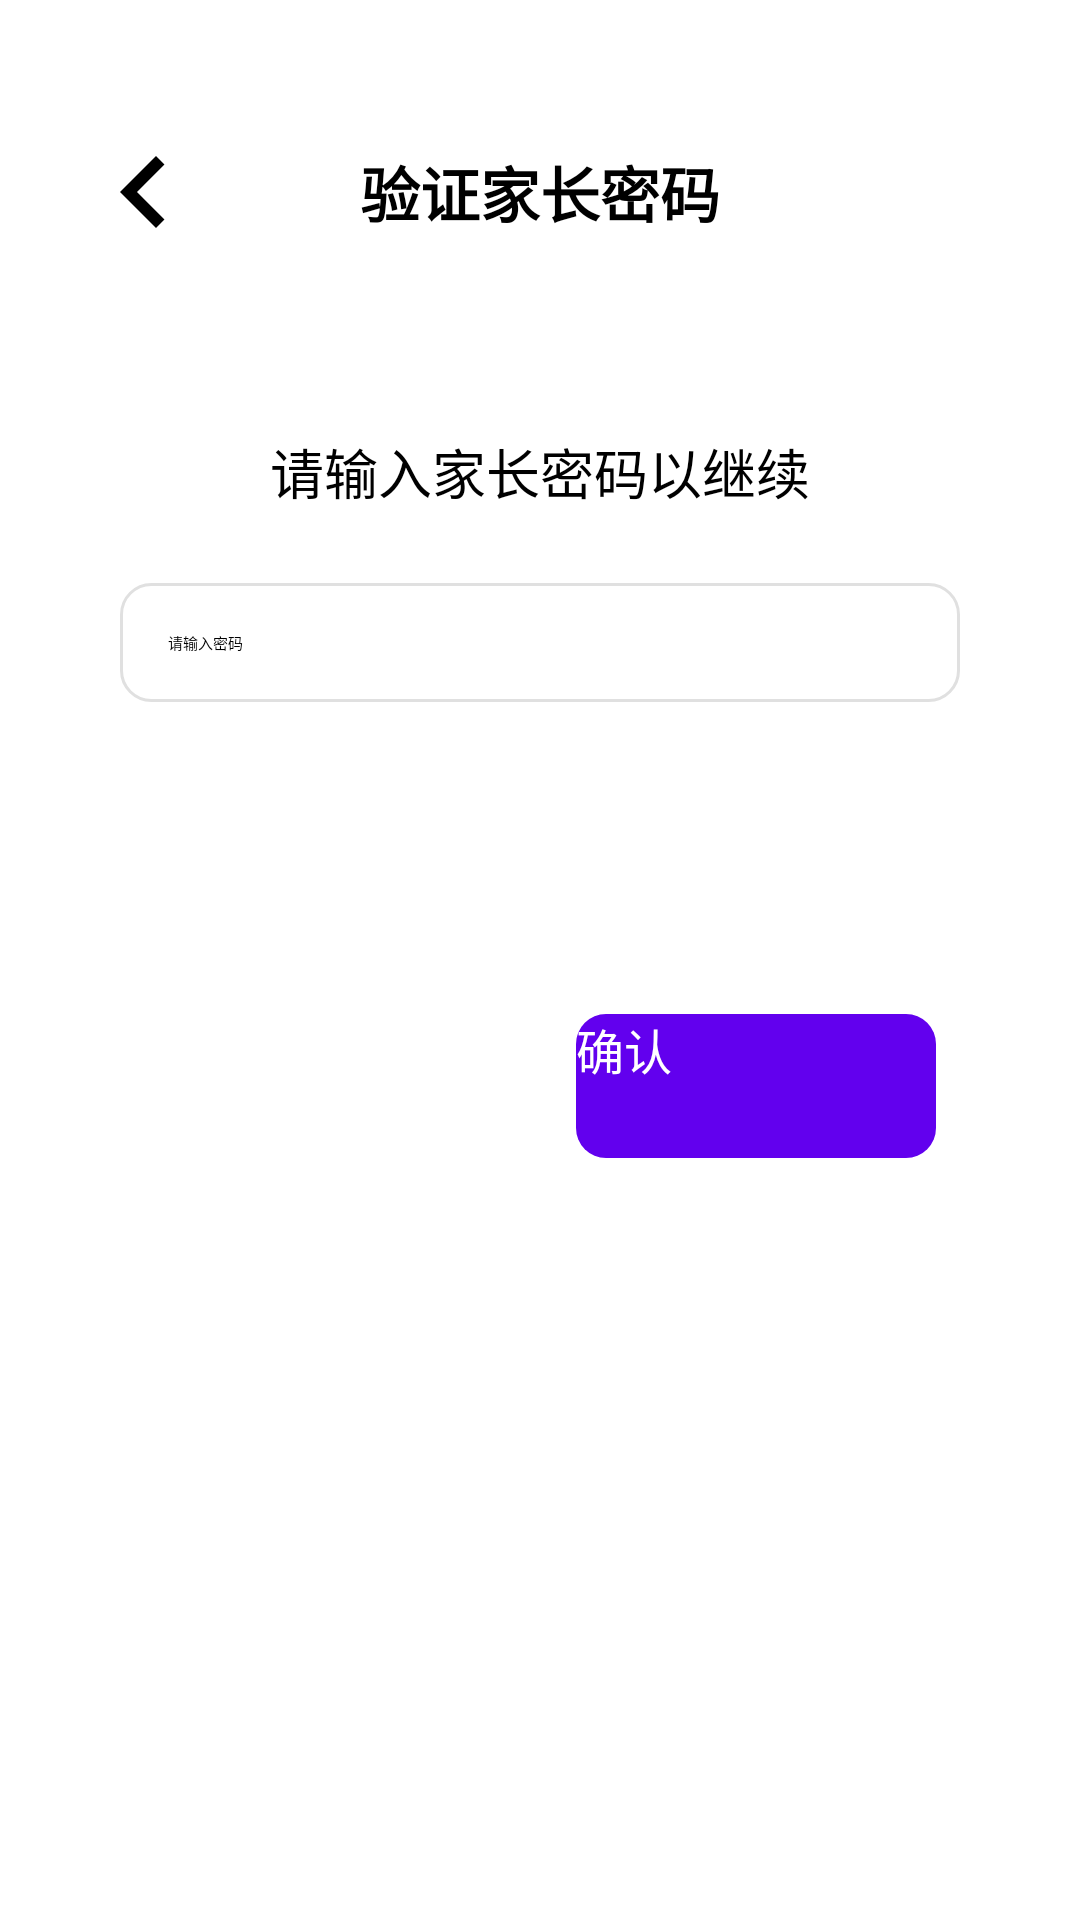

Named icons in this screenshot (1080px×1920px) and their centers, (x=x, y=y):
back: (x=142, y=192)
